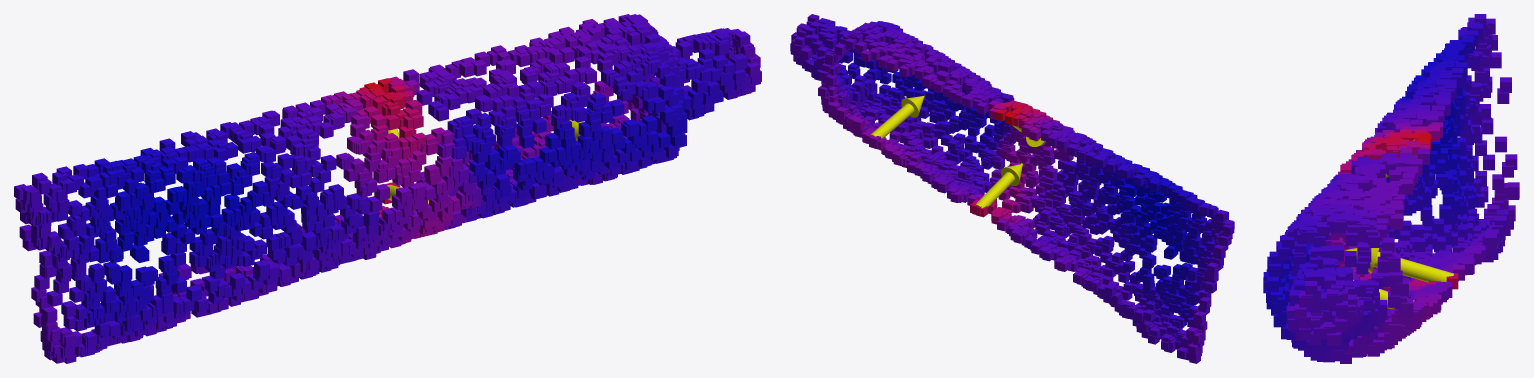
File: heatmap_force.glb
3 renders of one model, left to right at view 1: azimuth 30°, elevation 25°; view 2: azimuth 150°, elevation 25°; view 3: azimuth 270°, elevation 25°, orthographic. The views are drawn at different scales.
Parts seen in each view (by area): view 1: world; view 2: world; view 3: world.
Boxes of the visible parts, x1,y1,x2,y2 form: world: (14, 14, 761, 363); world: (790, 14, 1234, 363); world: (1263, 14, 1519, 363).
Size of the model in its own units: 0.1994 by 0.0779 by 0.0646.
